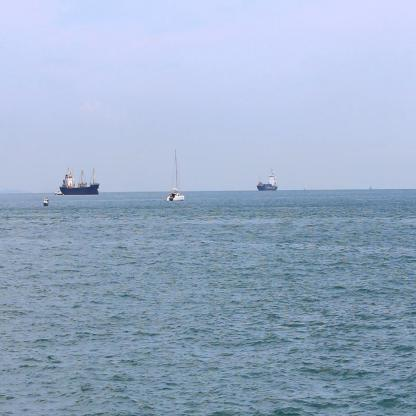Container Ship: (58, 167, 100, 196), (257, 169, 278, 192)
